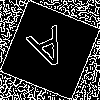A: (25, 25, 75, 81)
